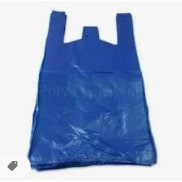kantong: (27, 10, 157, 169)
